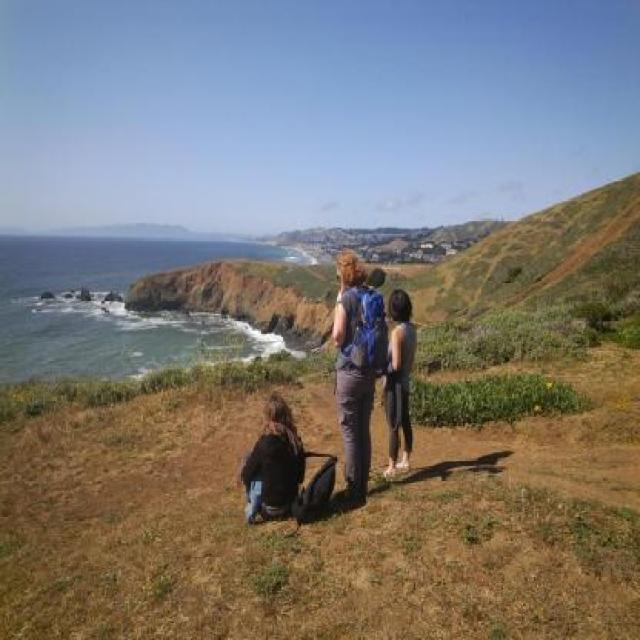backpack: (291, 449, 340, 528), (351, 284, 389, 374)
